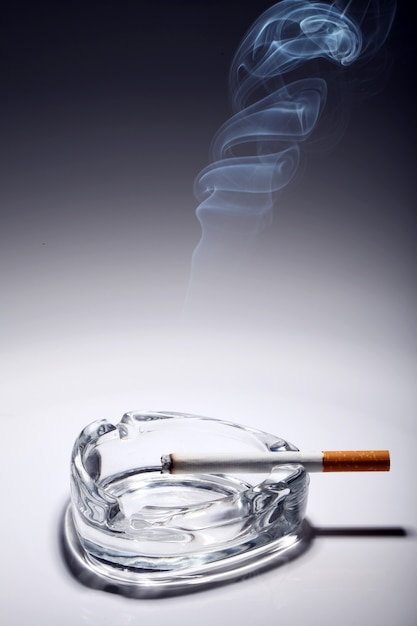cigarette: (158, 444, 394, 477)
